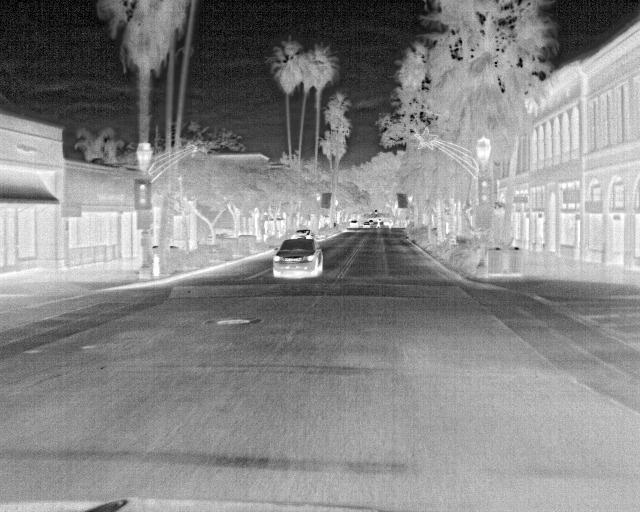car: (271, 238, 324, 278), (288, 227, 315, 240), (347, 218, 360, 229), (362, 221, 371, 230)
